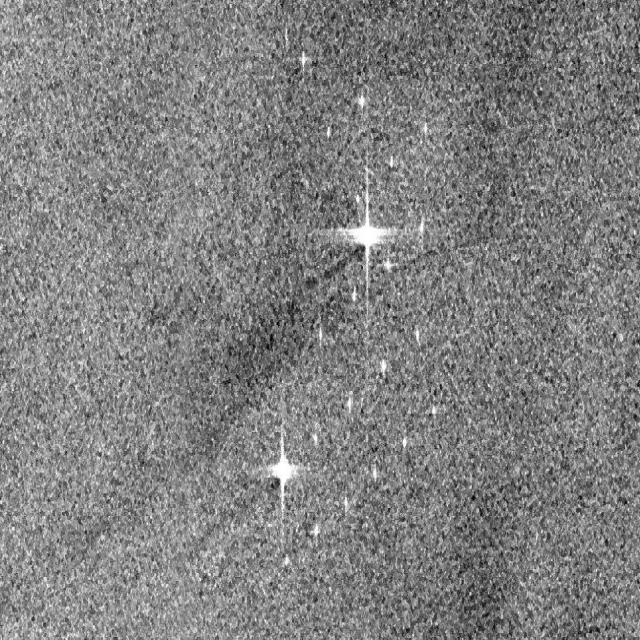ship: (326, 152, 400, 323), (261, 412, 304, 521), (294, 46, 312, 83), (355, 83, 370, 120)
